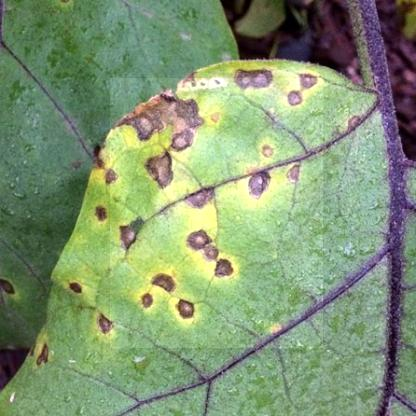black-spot: (110, 78, 323, 348)
